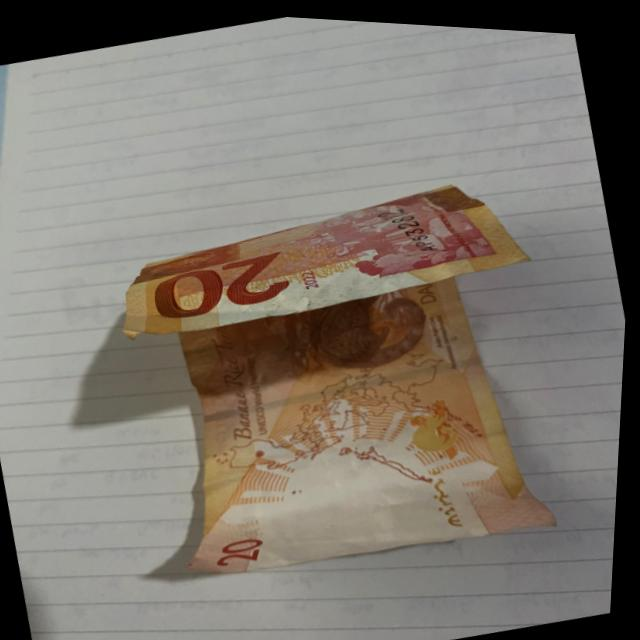security_thread: (200, 342, 487, 428)
serial_number: (377, 193, 457, 266)
value: (142, 243, 305, 324)
watermark: (267, 439, 464, 551)
